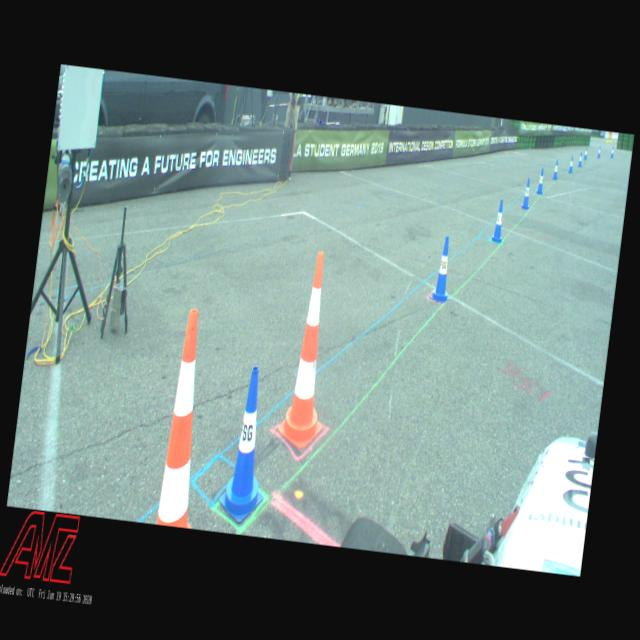blue_cone: (216, 363, 278, 525), (429, 235, 456, 304), (491, 198, 506, 244), (521, 178, 532, 208), (536, 168, 545, 195), (552, 159, 559, 179), (568, 156, 574, 173), (577, 151, 583, 167), (583, 146, 588, 160), (596, 145, 601, 158), (610, 146, 614, 158)
large_orange_cone: (156, 308, 218, 528), (276, 248, 342, 451)
